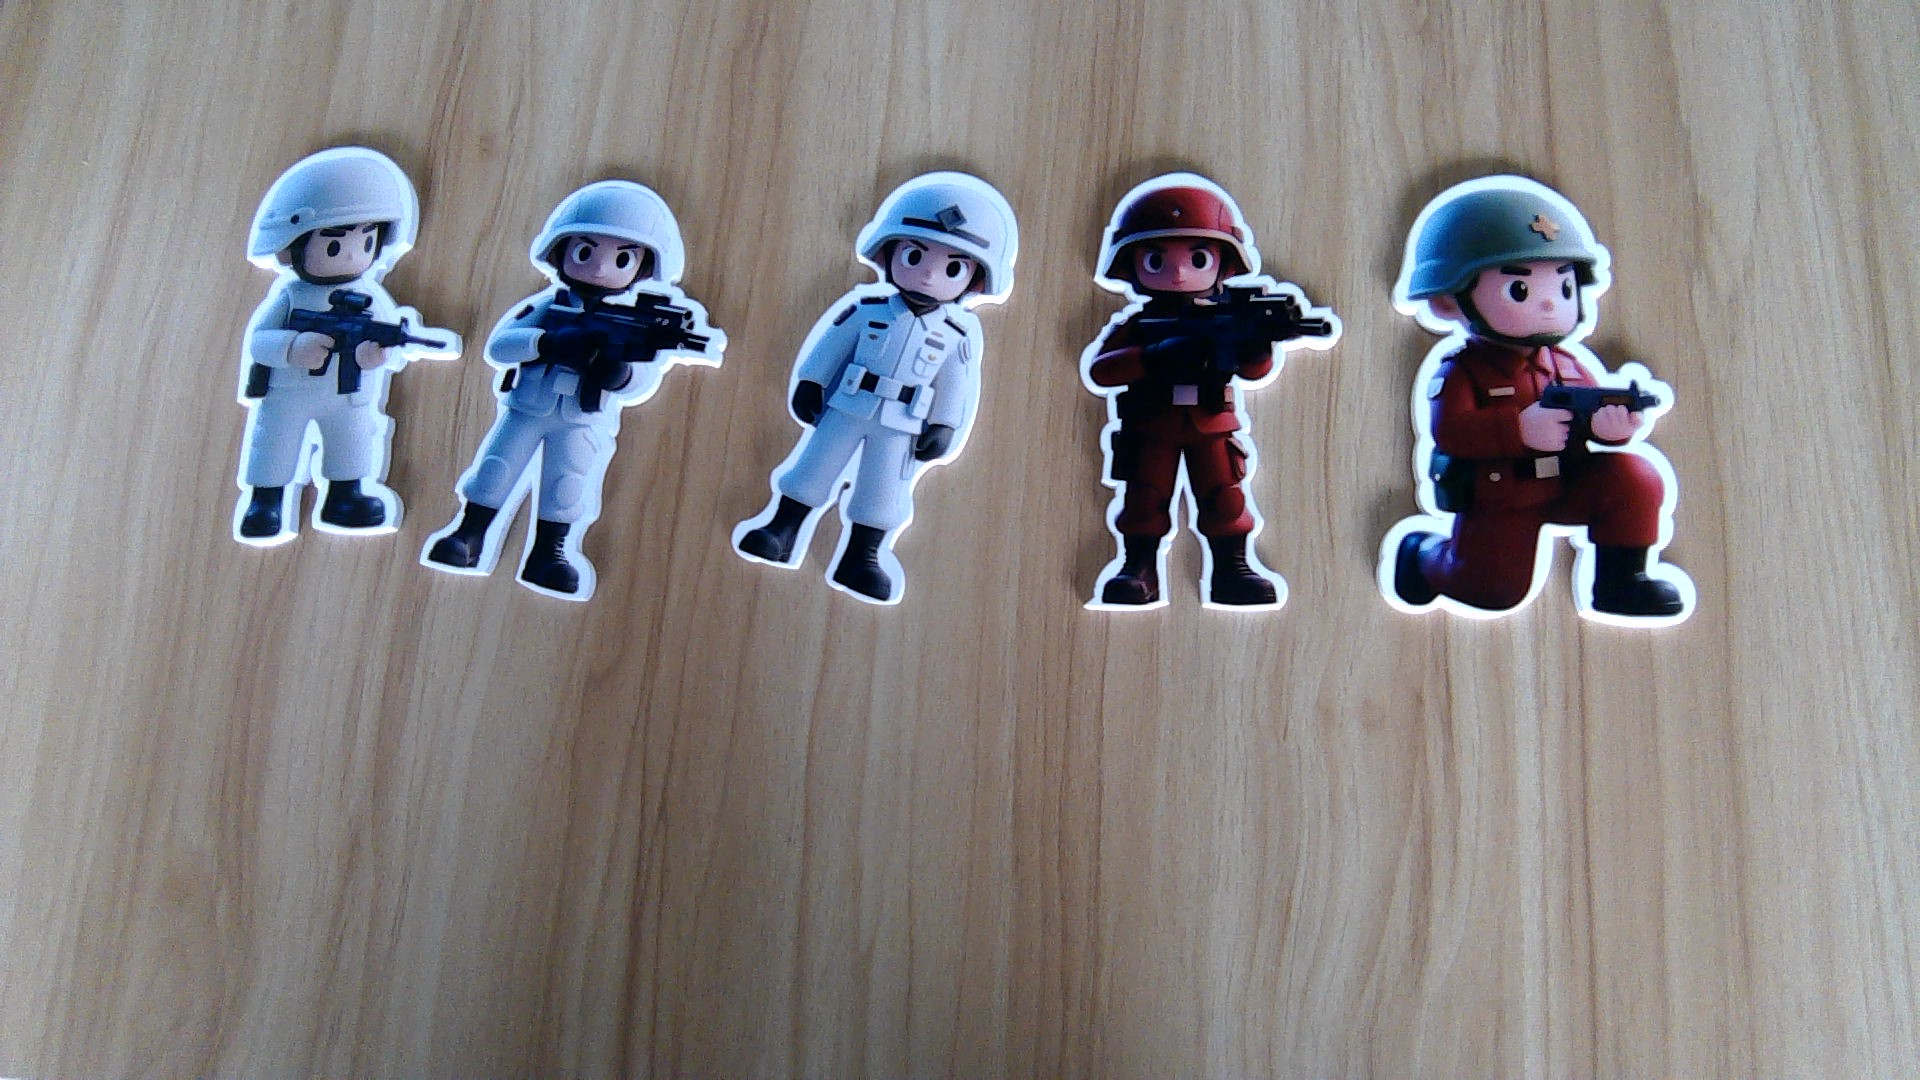人质: (419, 291, 719, 603), (731, 297, 989, 607), (227, 287, 459, 545)
敌人1: (1375, 339, 1706, 636), (1069, 297, 1337, 621)
